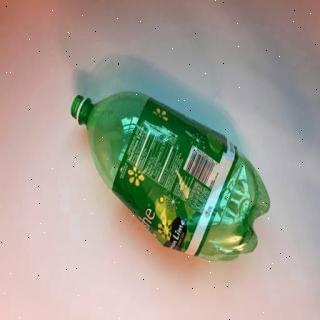Plastic-bottle: (69, 89, 275, 266)
